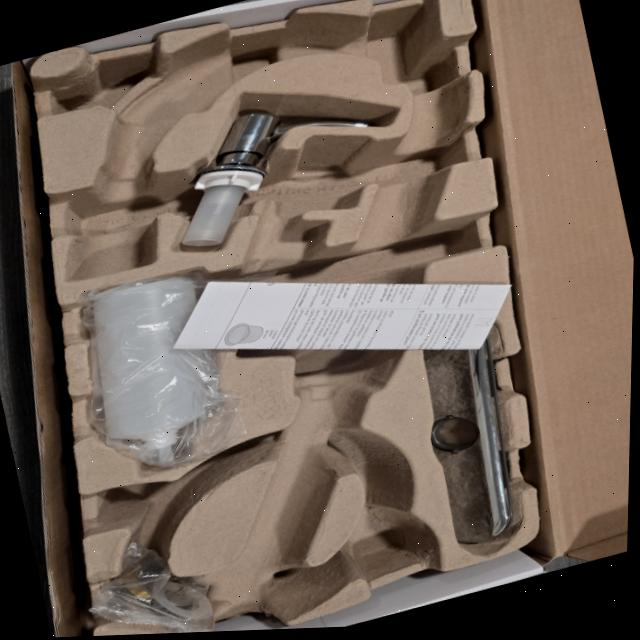1m: (60, 16, 467, 632)
2: (179, 112, 369, 246)
3o: (87, 272, 219, 466)
4o: (422, 319, 509, 544)
5m: (346, 502, 425, 565)
6: (90, 543, 216, 633)
7m: (101, 460, 238, 529)
8: (168, 280, 517, 349)
